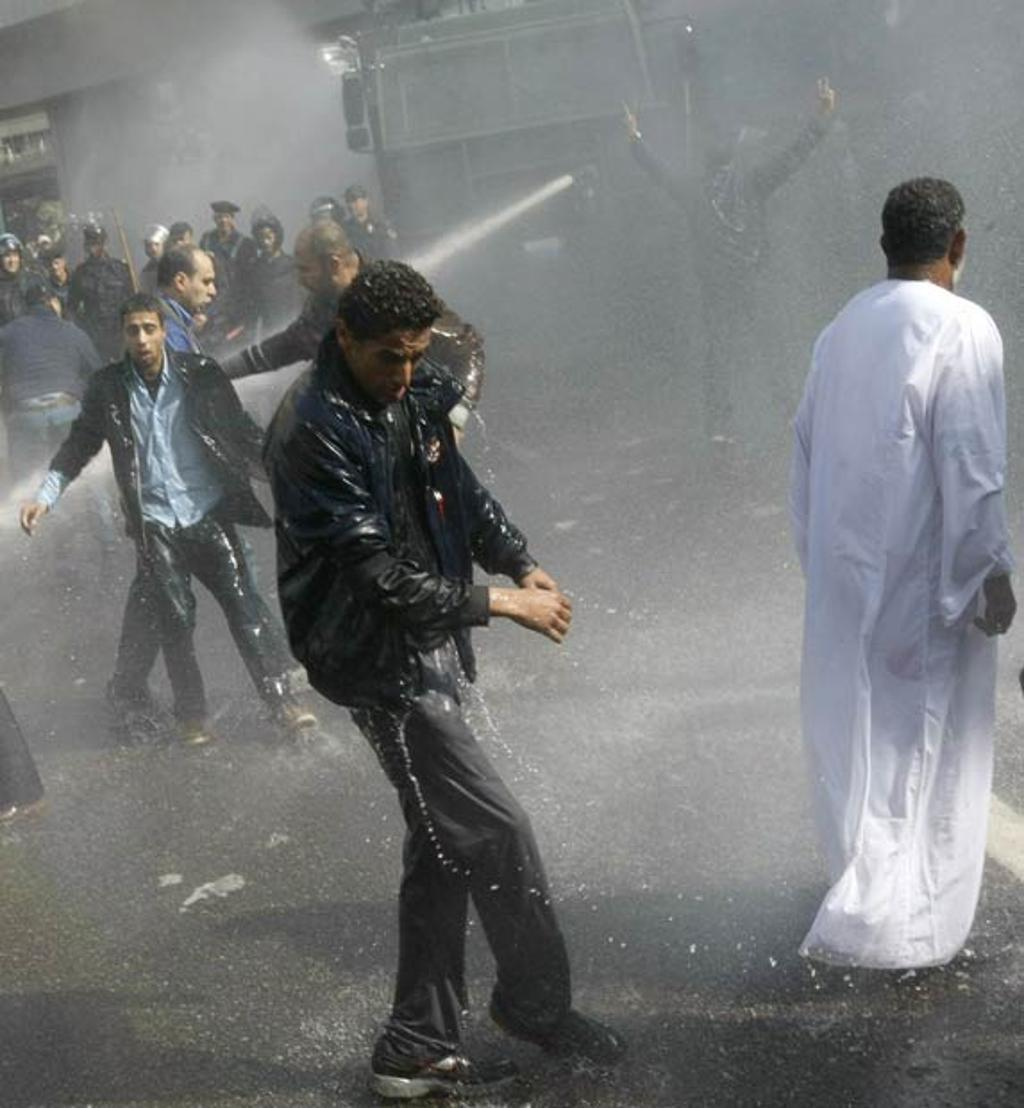face: (351, 326, 430, 409), (296, 244, 330, 300), (124, 314, 162, 364), (186, 256, 216, 313), (258, 228, 275, 252), (313, 212, 330, 234), (3, 249, 19, 272), (87, 237, 103, 258), (349, 197, 365, 217), (147, 237, 162, 258), (175, 234, 190, 253), (217, 212, 232, 230), (48, 260, 64, 276)
